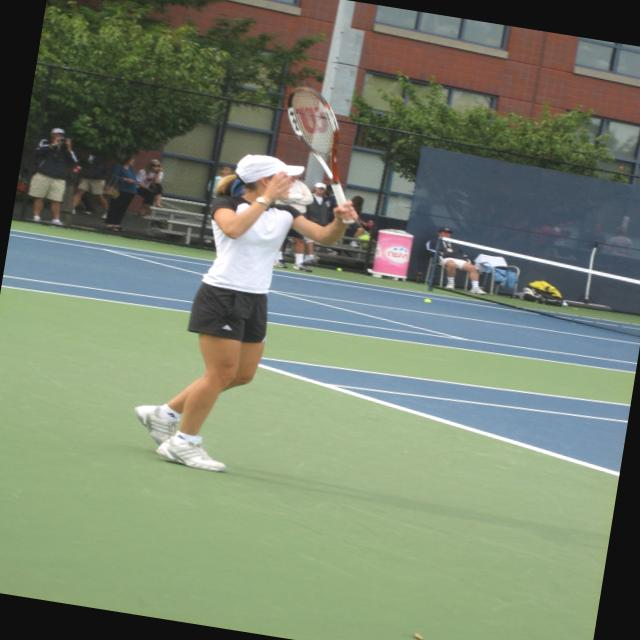Tennis Ball: (425, 297, 432, 302)
